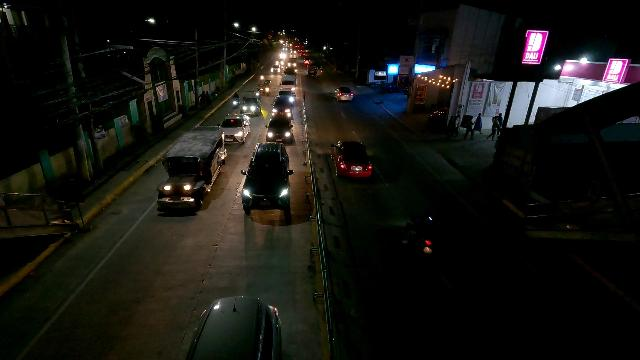car: (241, 142, 294, 224), (331, 140, 372, 177), (265, 113, 294, 142), (221, 112, 249, 142), (271, 96, 295, 120), (276, 88, 296, 106), (335, 86, 354, 100)
jeepney: (156, 125, 226, 212), (240, 92, 261, 115)
motorcycle: (232, 91, 239, 109)
van: (279, 75, 298, 96)
